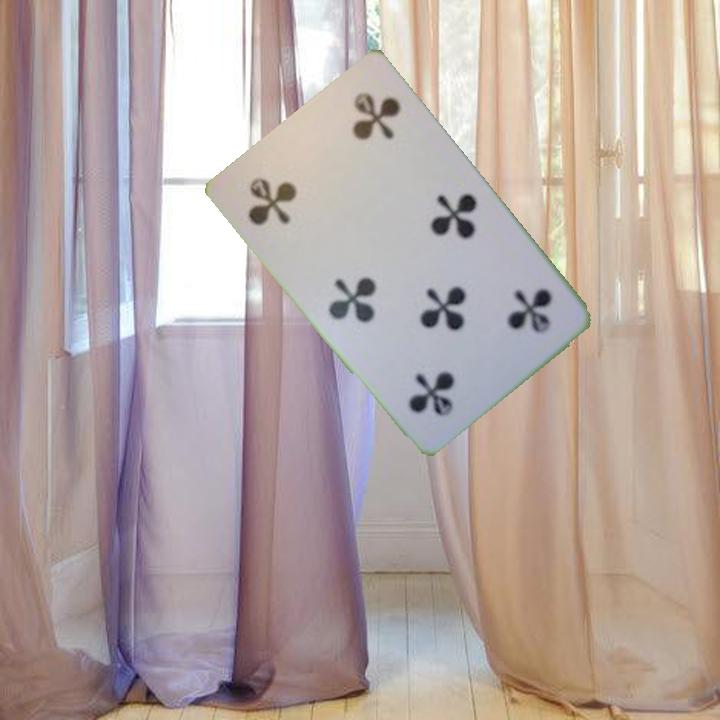c_7.png: (224, 128, 354, 256), (446, 253, 575, 380)
